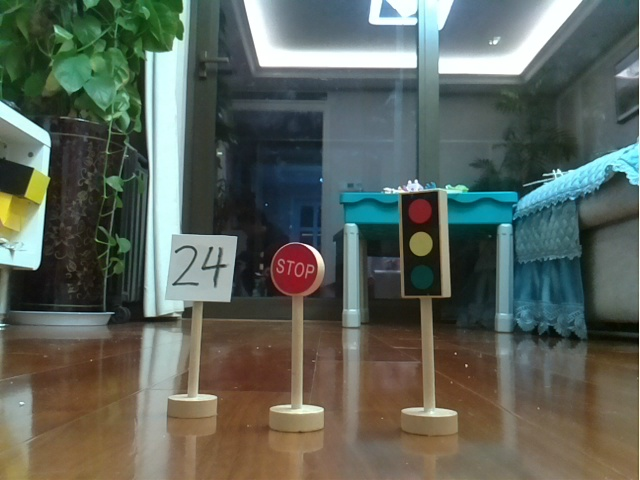Red Traffic Light: (393, 187, 468, 440)
Speed Limit 24: (160, 230, 238, 420)
Stop Sign: (262, 239, 335, 438)
